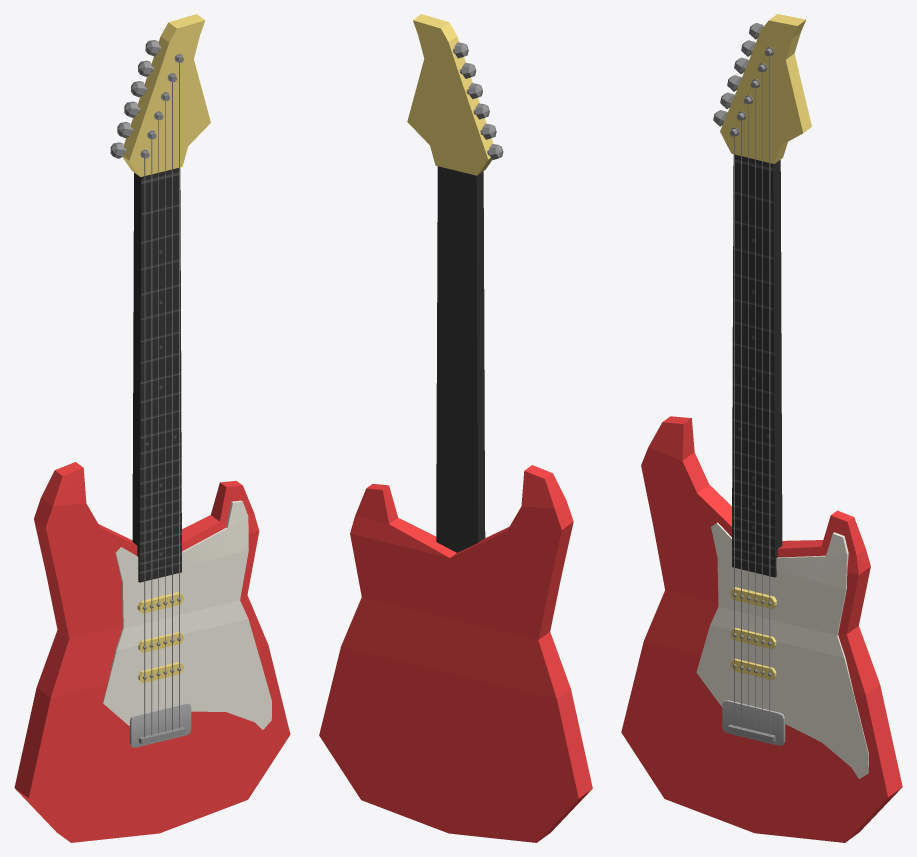
The model's file is ElectricGuitar.fbx.
The picture shows the model from 3 angles, left to right: view 1: azimuth 30°, elevation 25°; view 2: azimuth 150°, elevation 25°; view 3: azimuth 330°, elevation 25°; orthographic projection. The views are drawn at different scales.
Visible parts, largest first — view 1: Electric_Guitar1; view 2: Electric_Guitar1; view 3: Electric_Guitar1.
Part boxes in pixels (x1,y1,x2,y2): Electric_Guitar1: [14, 14, 290, 842]; Electric_Guitar1: [319, 14, 592, 842]; Electric_Guitar1: [621, 14, 902, 842].
Size of the model in its own units: 0.3695 by 1.08 by 0.0462.
Materials: 1 (1 with a texture image).
